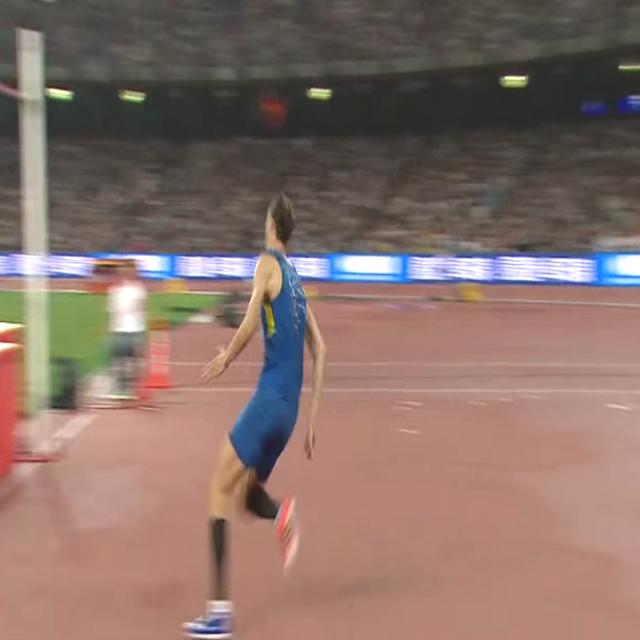run: (180, 189, 326, 640)
